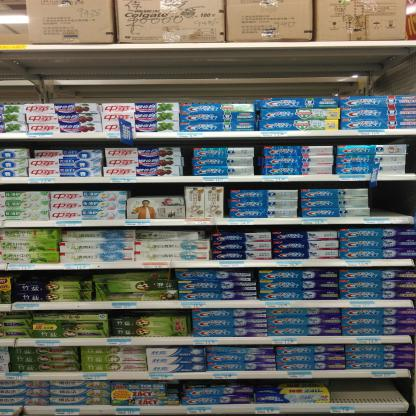Void: (332, 378, 407, 402), (371, 184, 414, 219), (16, 272, 86, 281), (112, 310, 134, 334), (128, 184, 178, 194), (39, 144, 103, 151)
